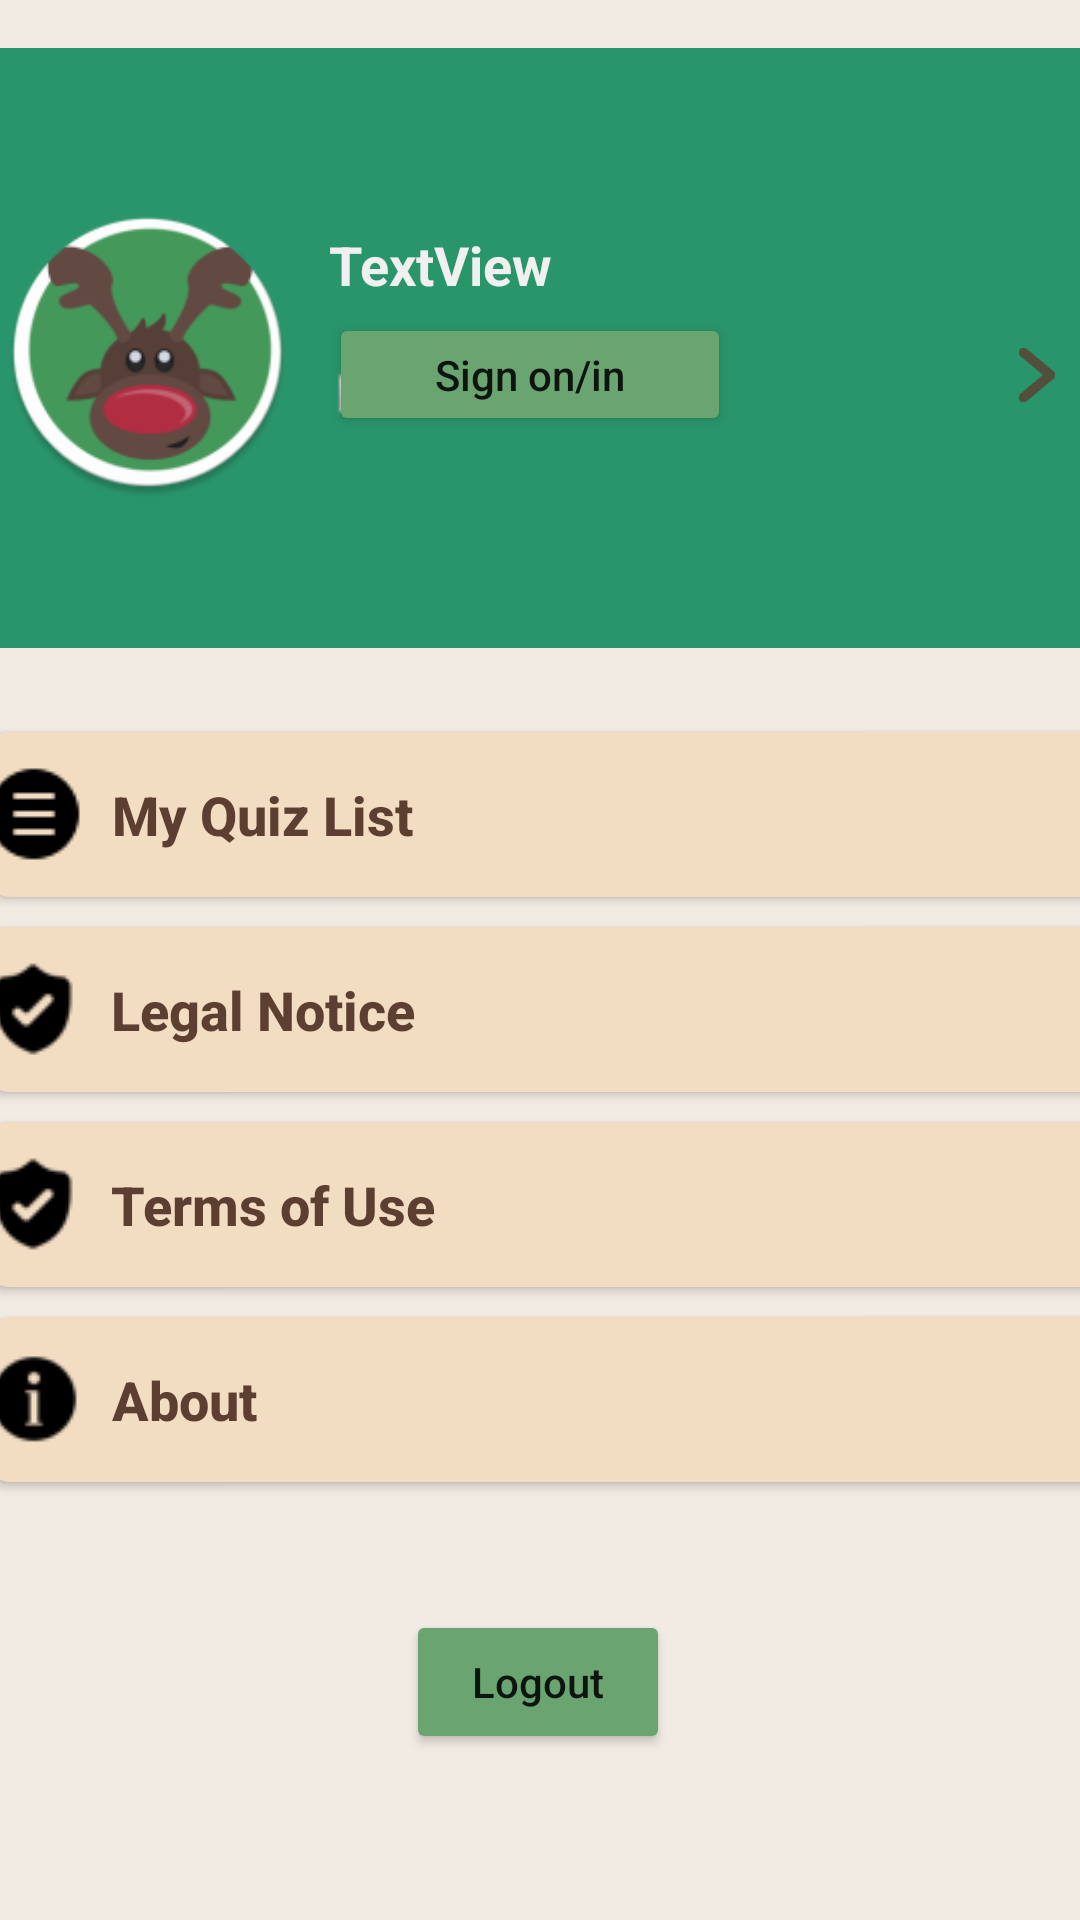

Icon click points for this 1080 x 1920 phone screenshot, format (x,y):
arrow: (1037,375)
